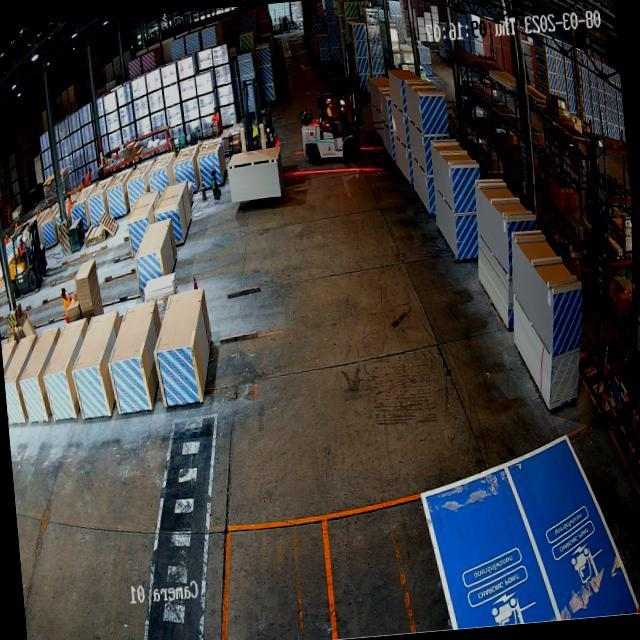driver: (324, 96, 342, 134)
forklift: (294, 70, 370, 170), (4, 217, 47, 297), (240, 102, 281, 153)
person: (60, 285, 72, 320)
